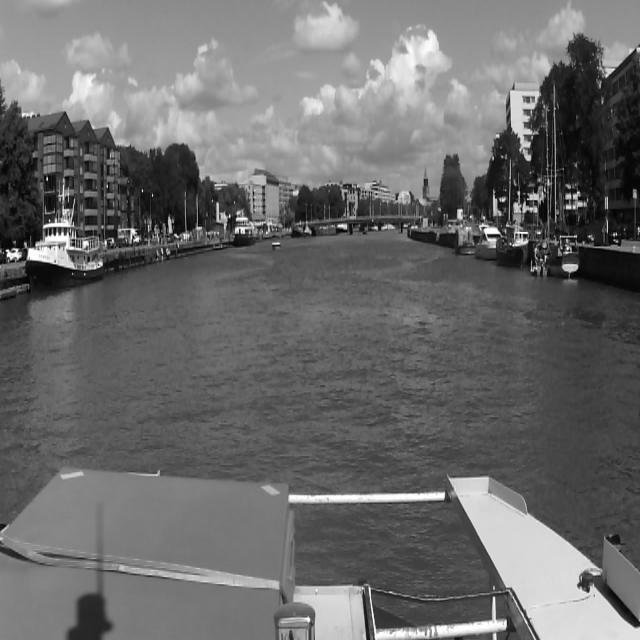ship: (536, 90, 581, 276), (24, 210, 104, 294), (494, 216, 528, 271), (450, 218, 474, 258), (234, 214, 256, 246), (476, 221, 494, 257), (292, 222, 304, 236), (269, 239, 281, 250), (304, 220, 312, 234)
